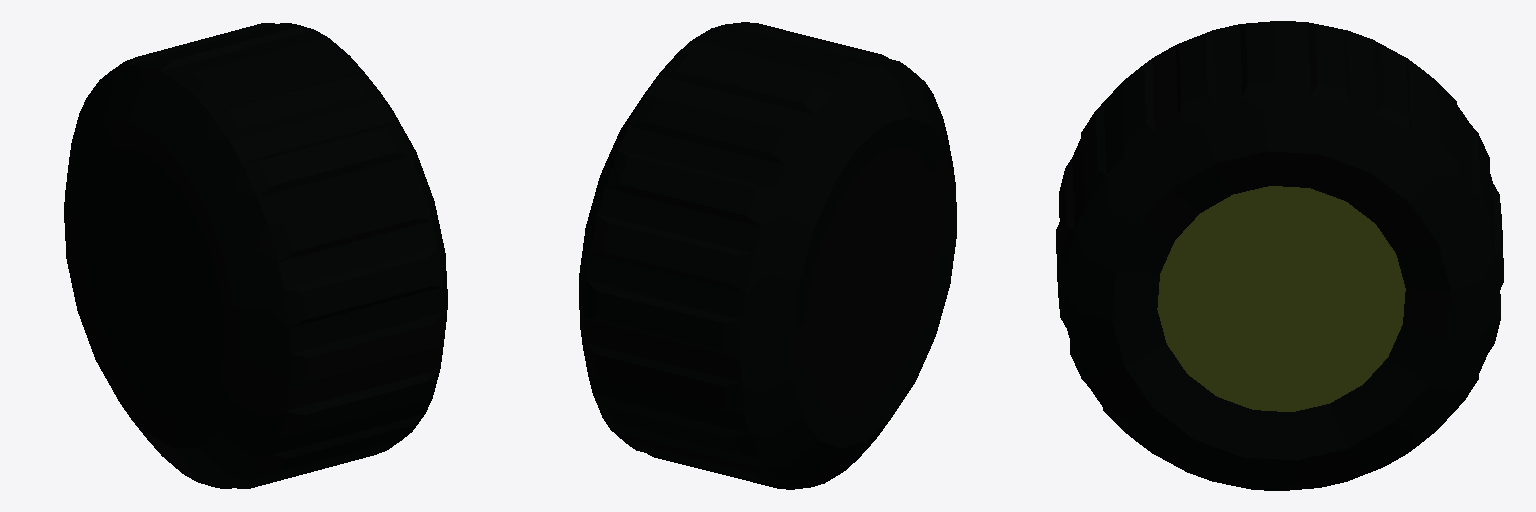
3 renders of one model, left to right at view 1: azimuth 30°, elevation 25°; view 2: azimuth 150°, elevation 25°; view 3: azimuth 270°, elevation 25°, orthographic.
Visible parts, largest first — view 1: Wheel1.003_Malla.004; view 2: Wheel1.003_Malla.004; view 3: Wheel1.003_Malla.004.
Boxes of the visible parts, x1,y1,x2,y2 form: Wheel1.003_Malla.004: [64, 23, 447, 488]; Wheel1.003_Malla.004: [579, 22, 956, 489]; Wheel1.003_Malla.004: [1056, 21, 1503, 490].
Bounding box in the file's own units: 0.3017 × 0.5371 × 0.5369.
2 materials, 1 textured.